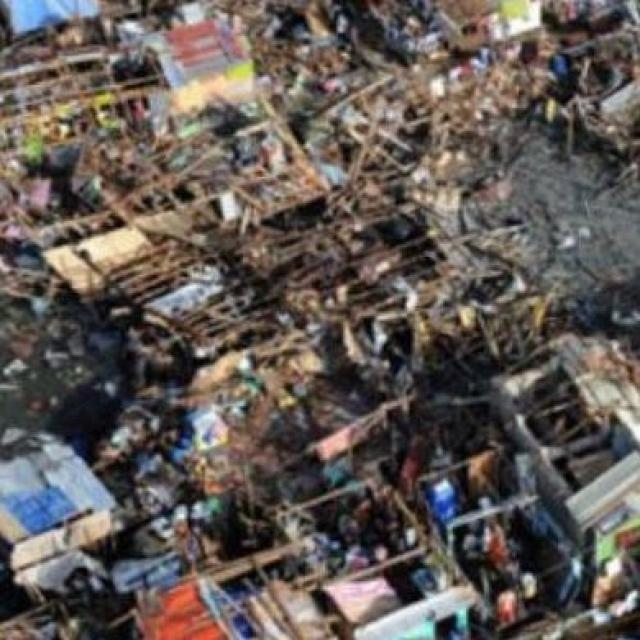collapsed_building: (0, 36, 514, 445)
